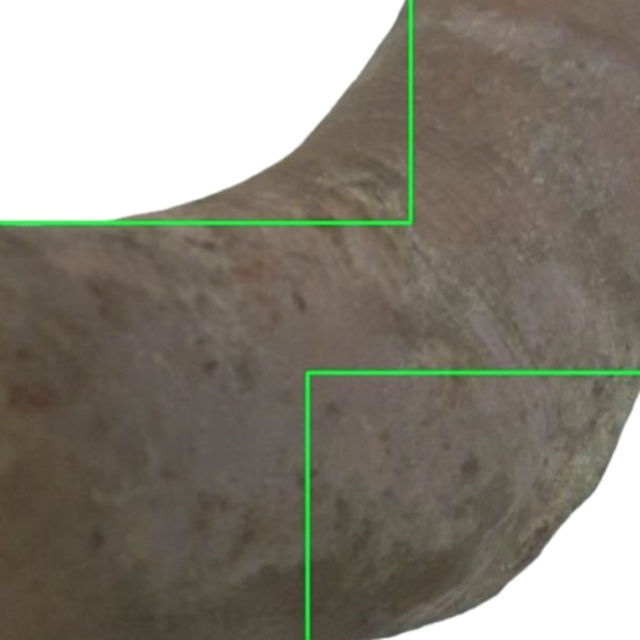Eczema: (0, 0, 410, 222), (307, 372, 639, 639)
